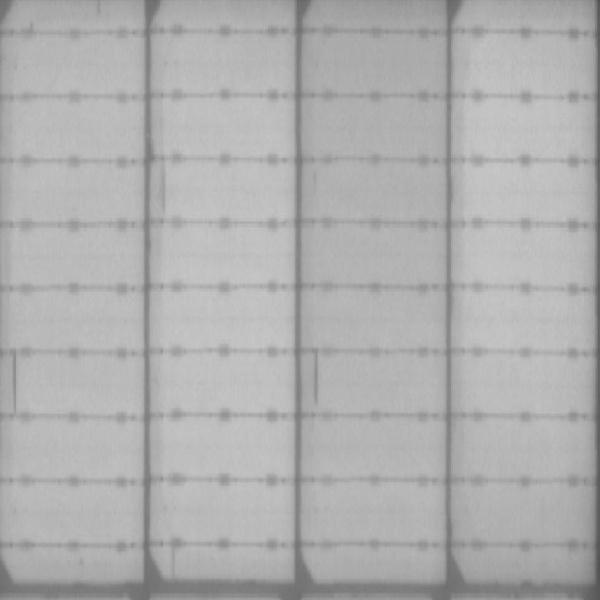scratch: (8, 351, 23, 414), (310, 349, 324, 408)
